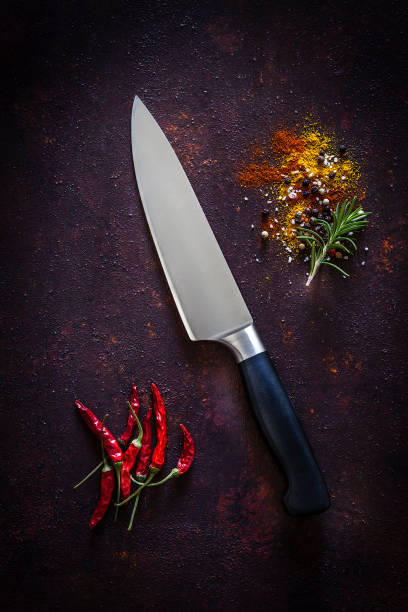knife: (128, 92, 336, 521)
